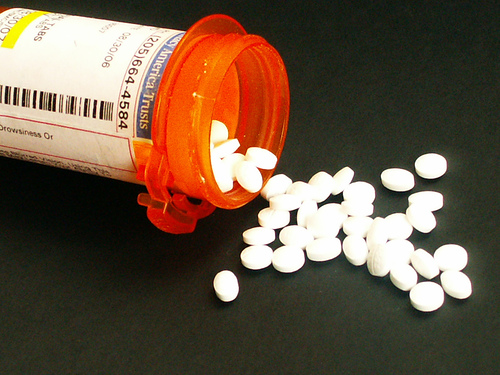pill bottle: (1, 5, 292, 213)
